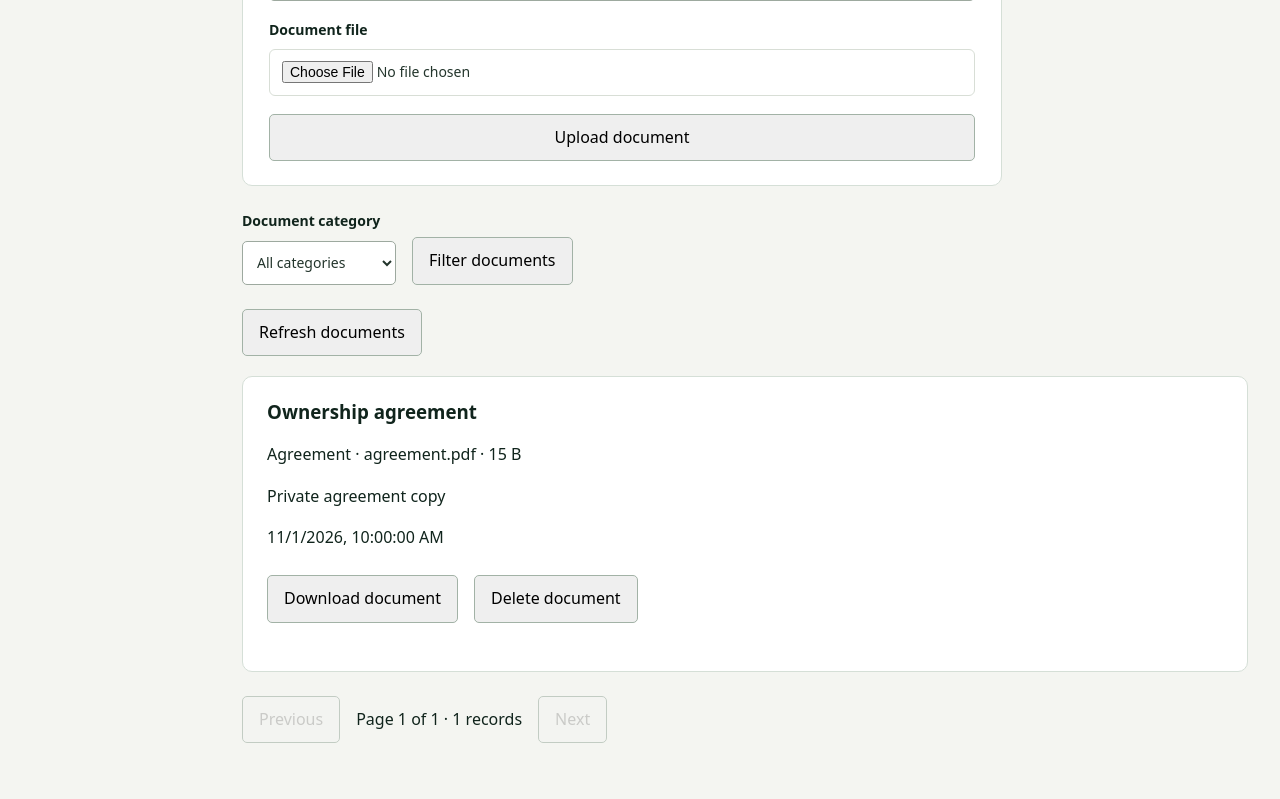
Scenario: requires a concrete deletion confirmation and lets the user cancel it
(page scrolled)
Click the button "Delete document" at (556, 599), box [474, 575, 638, 623]
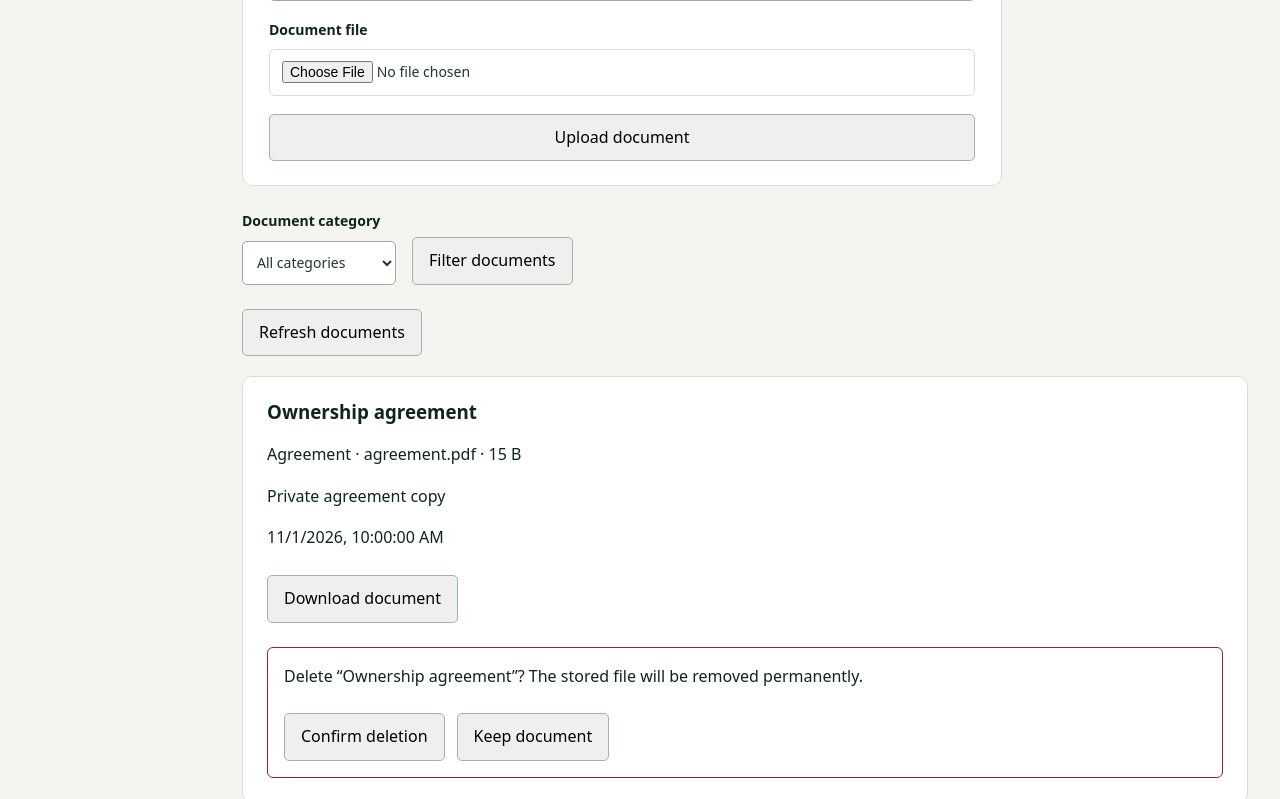
expect the text "stored file will be removed permanently" is shown: met, box [512, 665, 863, 687]
Click the button "Keep document" at (533, 737), box [456, 713, 609, 761]
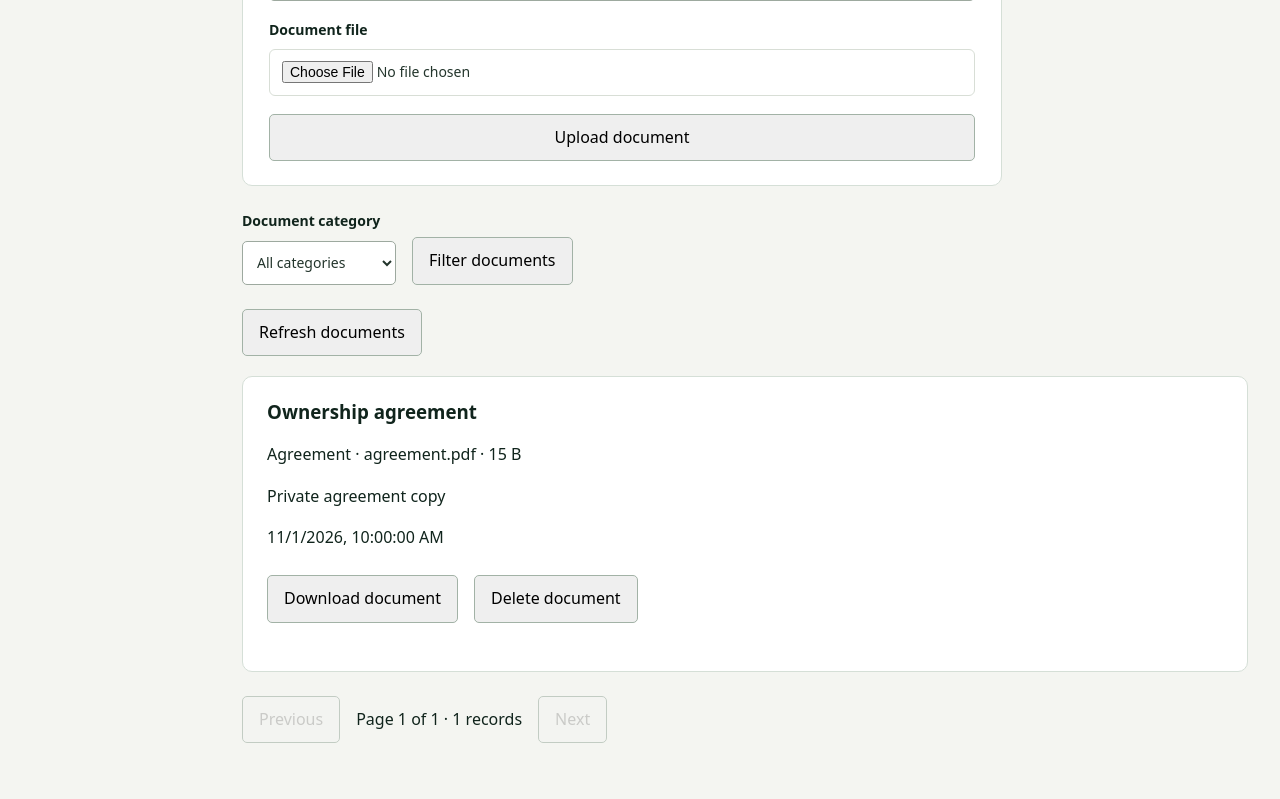
expect the button "Confirm deletion" is gone: met
